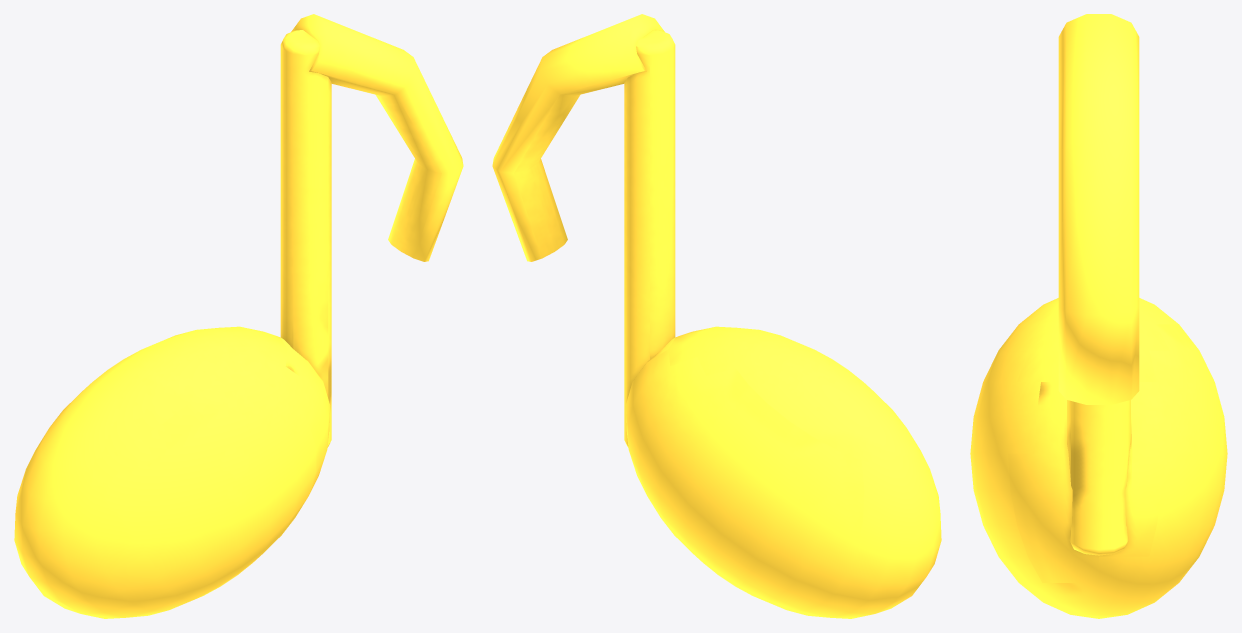
The model's file is GoldNote.fbx.
The picture shows the model from 3 angles, left to right: view 1: azimuth 30°, elevation 25°; view 2: azimuth 150°, elevation 25°; view 3: azimuth 270°, elevation 25°; orthographic projection. The views are drawn at different scales.
Parts seen in each view (by area): view 1: GoldNote_Body; view 2: GoldNote_Body; view 3: GoldNote_Body.
Boxes of the visible parts, x1,y1,x2,y2 form: GoldNote_Body: [14, 14, 463, 618]; GoldNote_Body: [492, 14, 941, 618]; GoldNote_Body: [970, 14, 1227, 618].
Bounding box in the file's own units: 0.5524 × 0.664 × 0.224.
